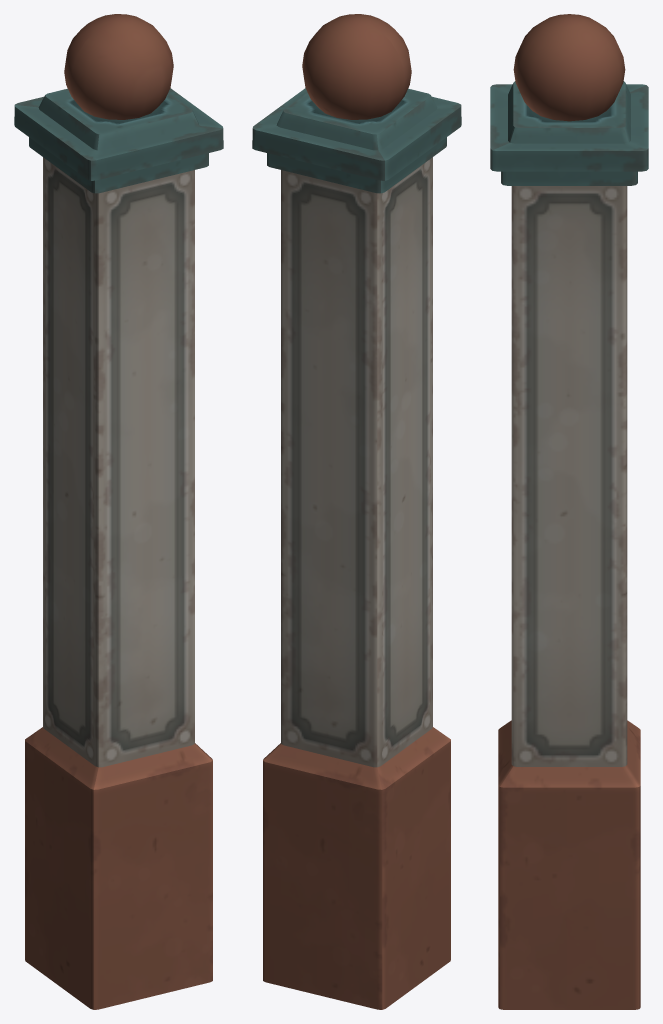
Rendered from Wall_02_el2.fbx.
The picture shows the model from 3 angles, left to right: view 1: azimuth 30°, elevation 25°; view 2: azimuth 150°, elevation 25°; view 3: azimuth 270°, elevation 25°; orthographic projection.
Parts seen in each view (by area): view 1: polySurface118; view 2: polySurface118; view 3: polySurface118.
Boxes of the visible parts, bbox=[...] form: polySurface118: bbox=[14, 14, 223, 1009]; polySurface118: bbox=[252, 14, 461, 1009]; polySurface118: bbox=[490, 14, 648, 1009].
Size of the model in its own units: 59.18 by 397 by 59.18.
1 material, 1 textured.
